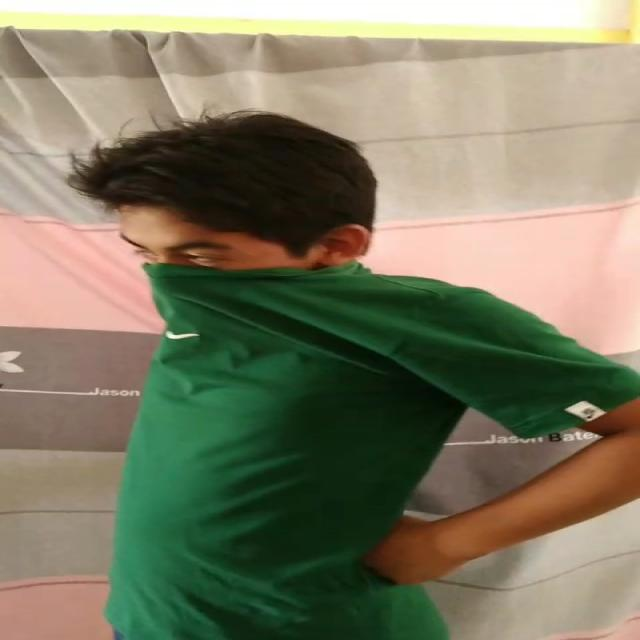8_ropa_rostro: (140, 252, 431, 366)
